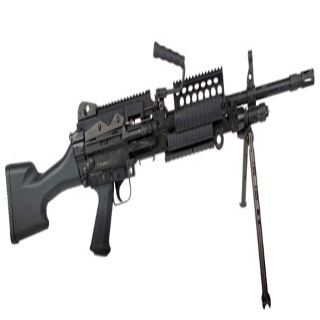rifle: (4, 40, 315, 313)
